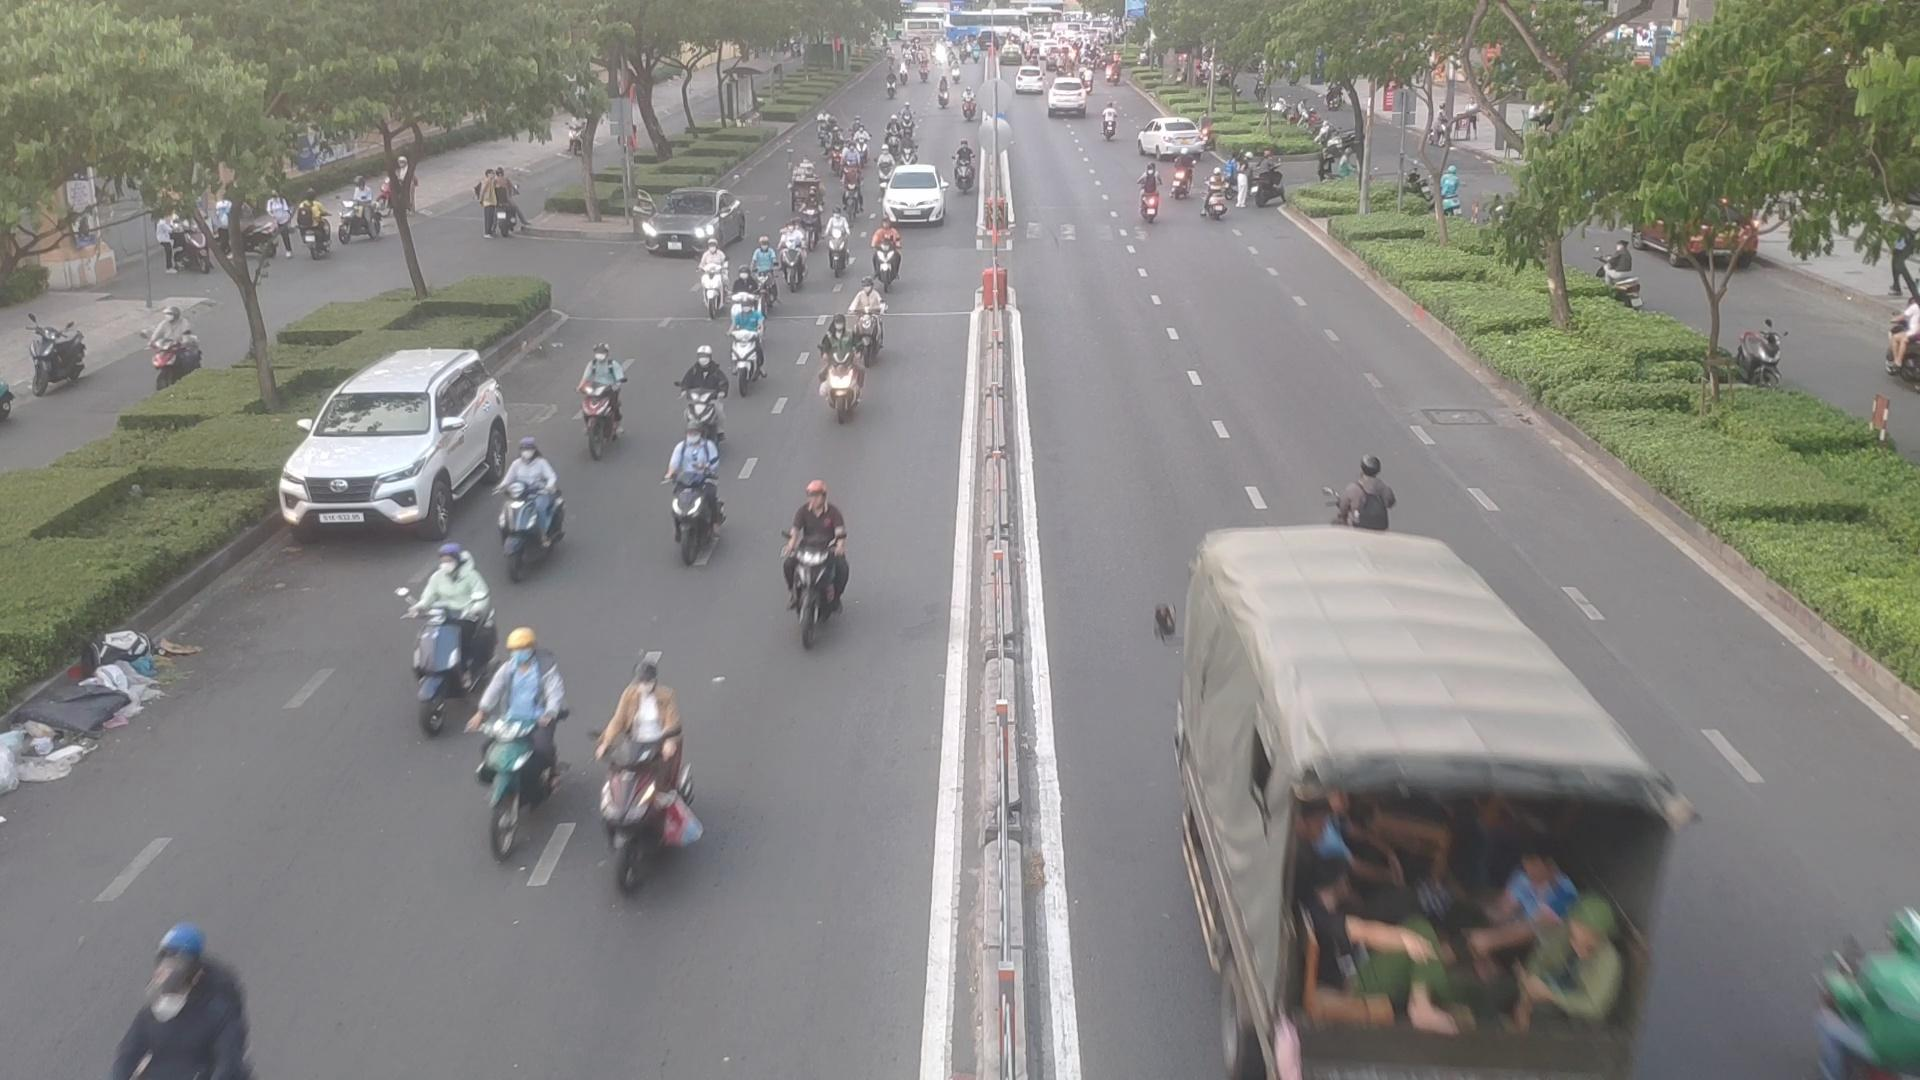car: (1141, 524, 1687, 1080), (280, 353, 518, 541), (636, 190, 746, 258), (884, 165, 949, 225), (1133, 113, 1207, 164)
motorbike: (477, 624, 571, 872), (593, 659, 675, 909), (389, 546, 491, 735), (785, 489, 844, 645), (496, 444, 560, 563), (1325, 450, 1400, 547), (673, 344, 733, 456), (669, 429, 717, 550), (811, 322, 868, 419), (576, 347, 621, 448), (727, 299, 771, 384), (845, 282, 886, 360), (775, 214, 808, 299), (696, 243, 731, 314), (873, 220, 906, 287), (822, 211, 851, 276), (752, 233, 777, 302), (1138, 164, 1164, 220), (1166, 146, 1191, 200), (870, 141, 895, 194), (839, 161, 861, 214), (1205, 170, 1225, 219), (800, 189, 820, 235), (959, 138, 971, 190), (829, 131, 844, 171), (885, 117, 899, 154), (899, 135, 914, 164), (855, 127, 866, 161)
